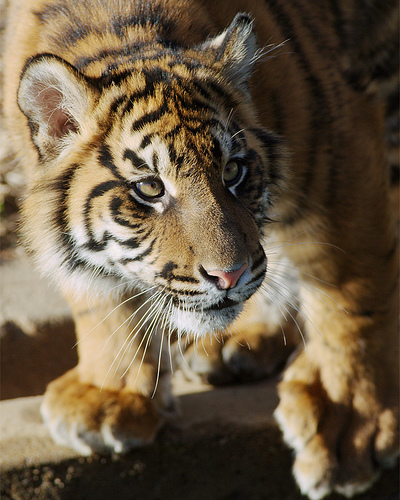Tigre: (17, 8, 379, 437)
